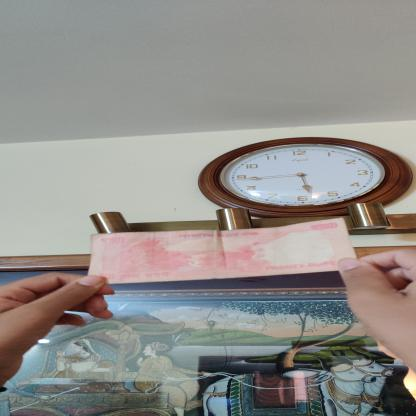Old20Back: (87, 217, 357, 284)
